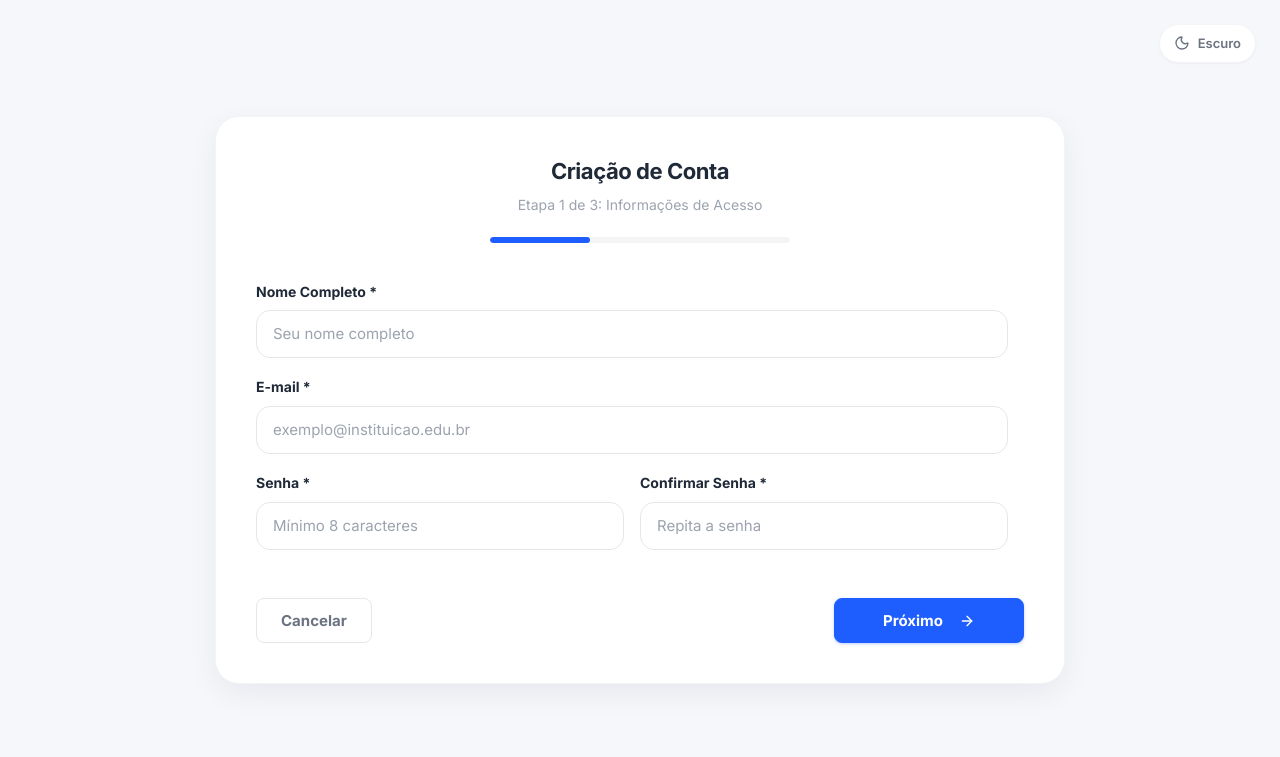
Test: Ajustes no Cadastro de Estudantes e Treinadores › 4. Remoção do texto "(Opcional)" dos formulários de cadastro (Register.js) › Não exibe a palavra "(Opcional)" ou "(opcional)" em nenhum rótulo ou título do cadastro
Type "Treinador Teste" into the field with placeholder "Seu nome completo" at (632, 334), box [256,310,1008,358]
Type "treinador@ifc.edu.br" into the field with placeholder "exemplo@instituicao.edu.br" at (632, 430), box [256,406,1008,454]
Type "12345678" into the password field with placeholder "Mínimo 8 caracteres" at (440, 526), box [256,502,624,550]
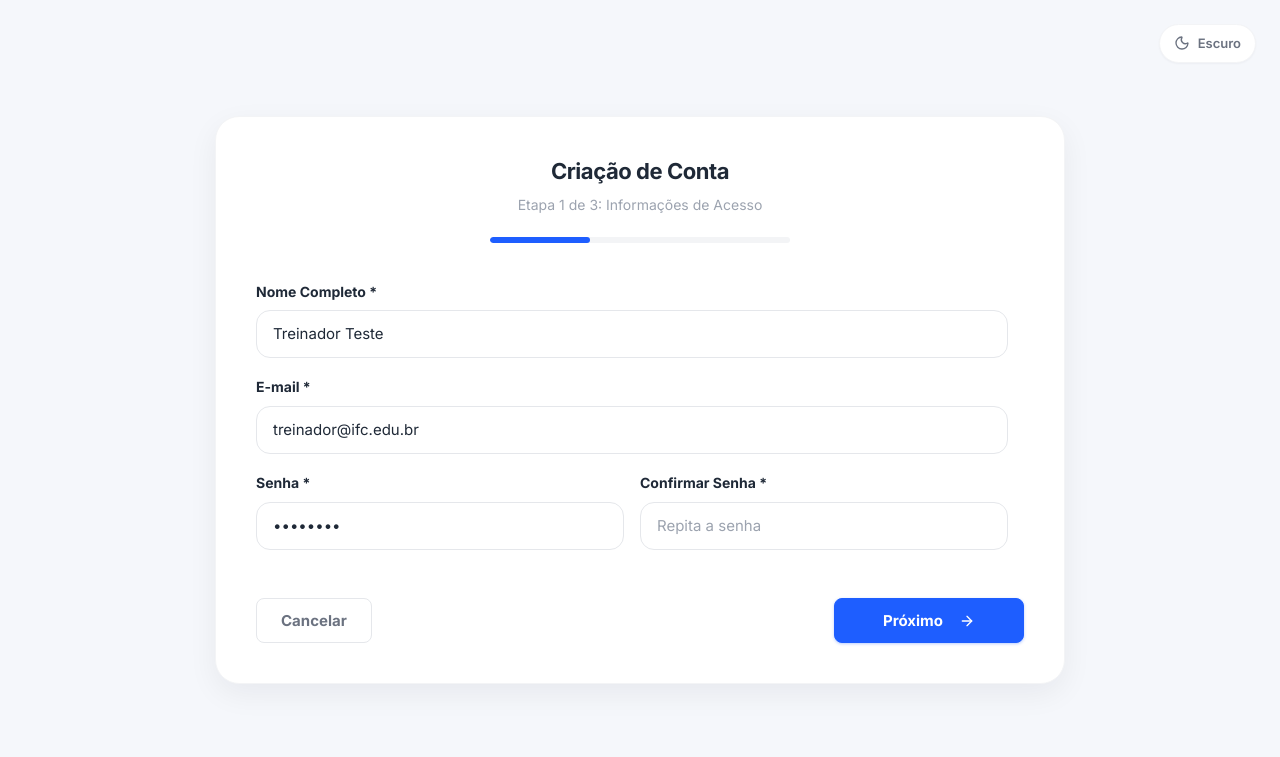
Type "12345678" into the password field with placeholder "Repita a senha" at (824, 526), box [640,502,1008,550]
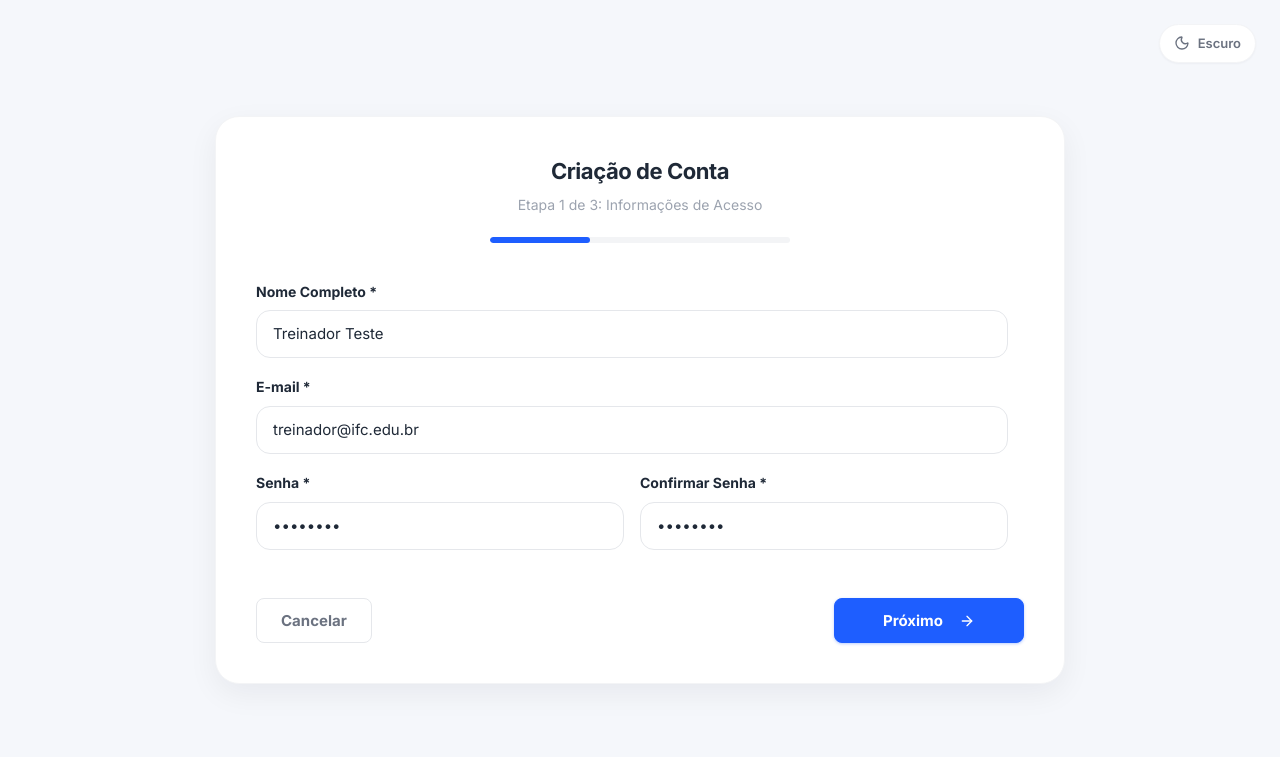
Click the button "Próximo" at (929, 621), box [834,598,1024,643]
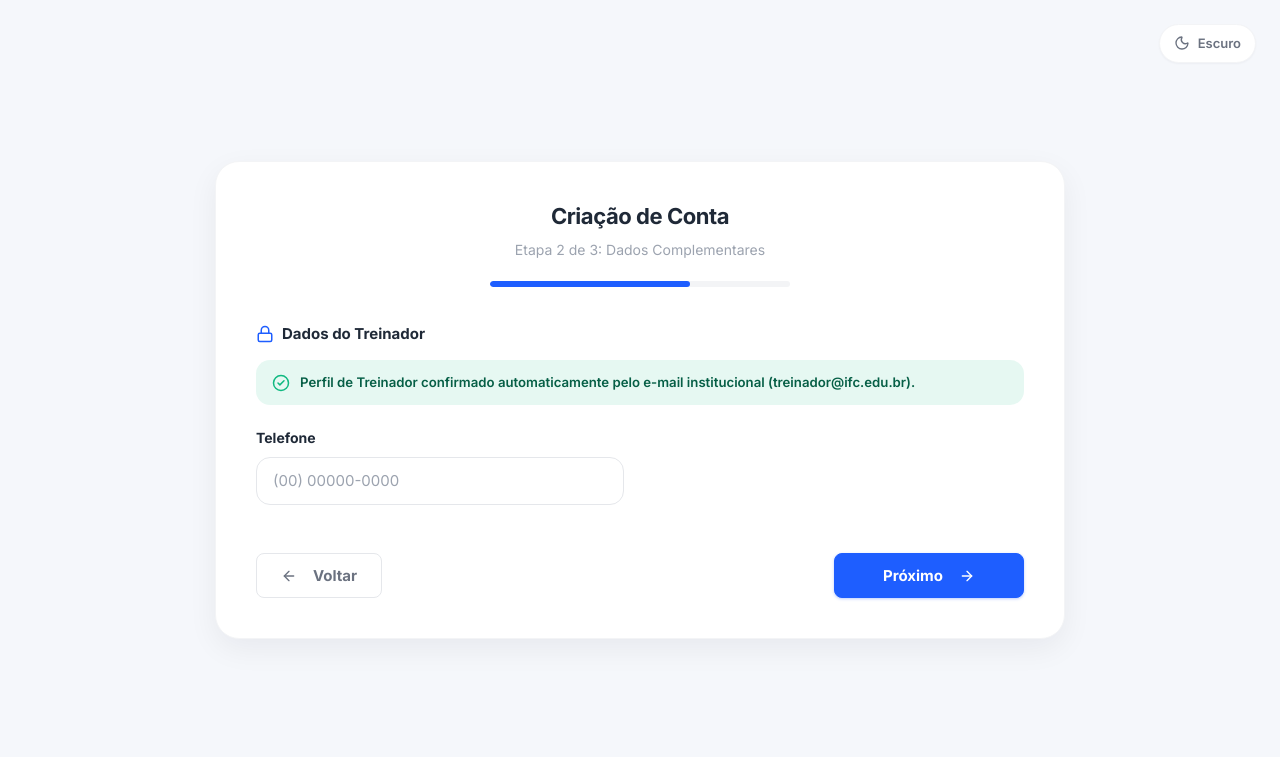
Check: the text "Telefone" is shown, box [256,428,316,450]
Voltar para a Etapa 1 e informar e-mail de Estudante
Click the button "Voltar" at (319, 576), box [256,553,382,598]
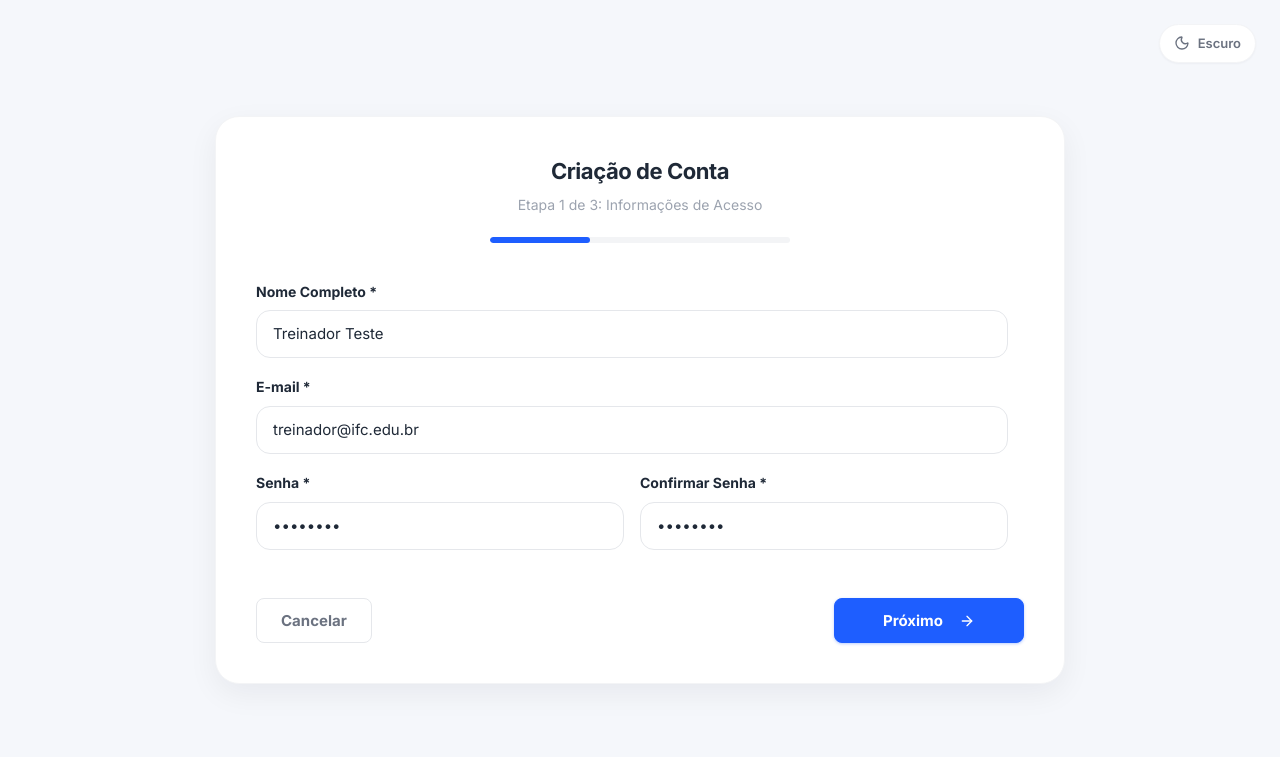
Replace the text in the field with placeholder "exemplo@instituicao.edu.br" below "E-mail *" with "estudante@gmail.com" at (632, 430), box [256,406,1008,454]
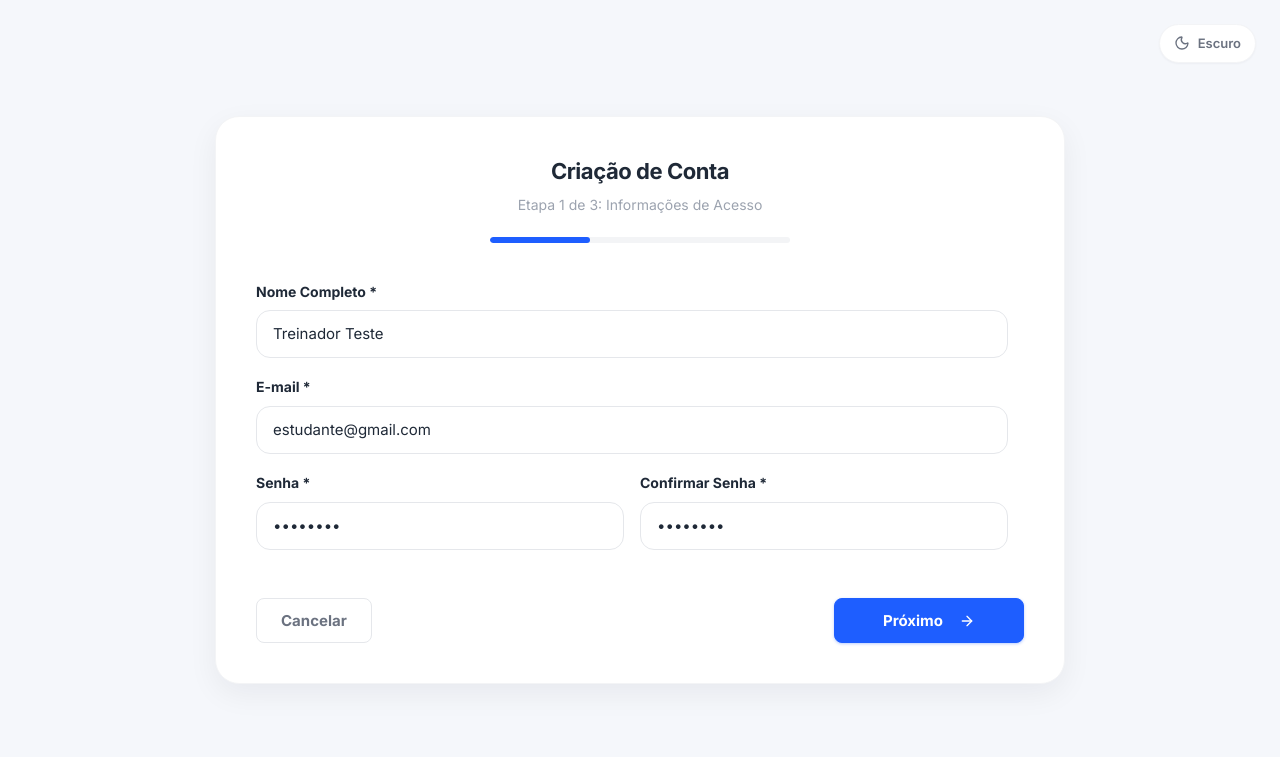
Click the button "Próximo" at (929, 621), box [834,598,1024,643]
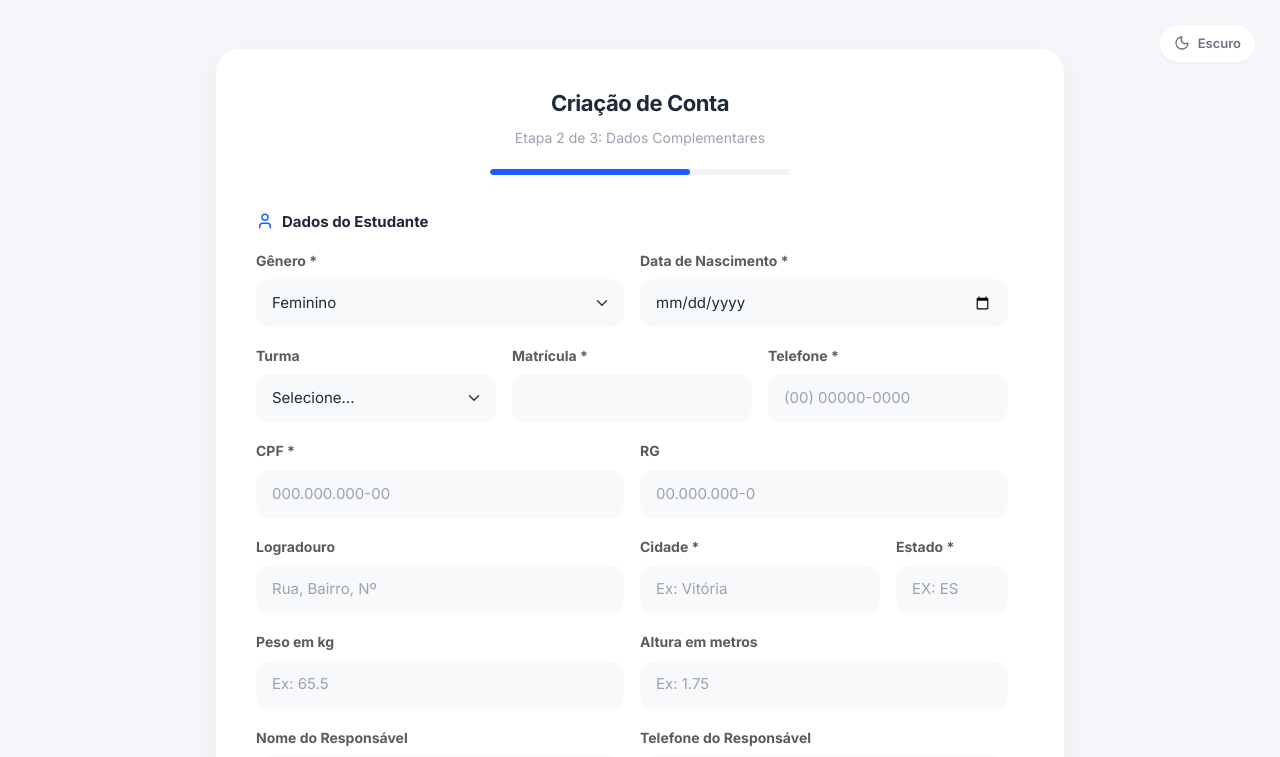
Check: the text "Turma" is shown, box [256,345,300,368]
Check: the text "RG" is shown, box [640,440,660,463]
Check: the text "Logradouro" is shown, box [256,536,335,558]
